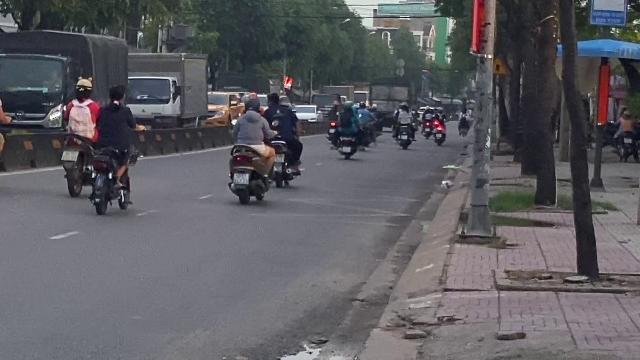helmet: (74, 78, 92, 98), (242, 93, 260, 113)
licenseplate: (61, 150, 77, 160), (234, 174, 248, 184)
motorcyclist: (90, 83, 140, 217), (225, 92, 275, 204), (58, 77, 98, 195)
nohelmet: (106, 84, 125, 104)
